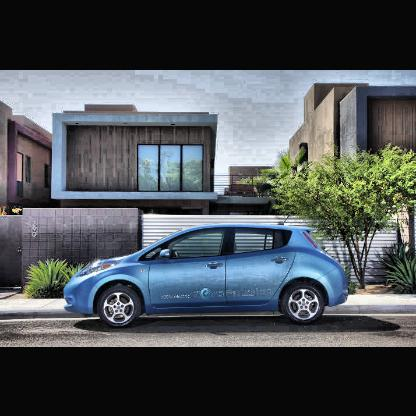Nissan Leaf Hatchback 2012: (61, 222, 352, 328)
